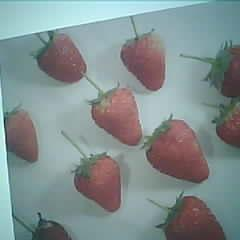straw-ripe: (146, 119, 209, 183), (92, 86, 142, 145), (120, 33, 167, 91), (74, 154, 121, 211), (166, 196, 226, 240)
